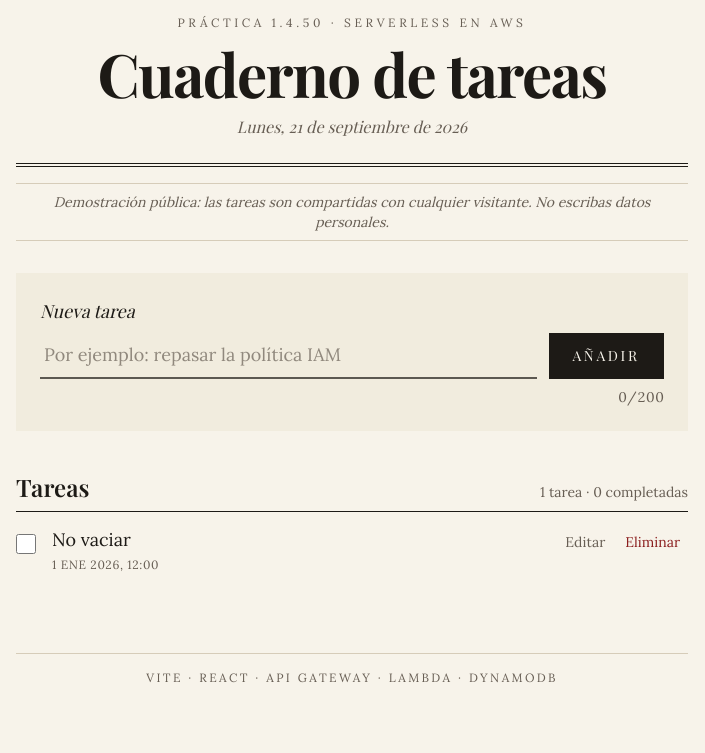
Test: edición › no permite guardar un título vacío
Click the button with aria-label "Editar «No vaciar»". click: (585, 542)
box: [557, 528, 613, 556]
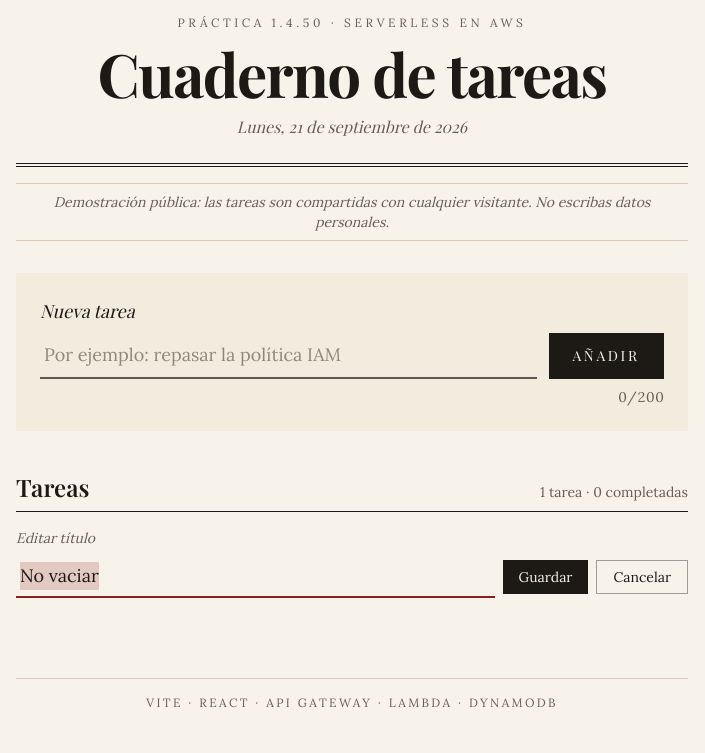
Clear the field labelled "Editar título". click: (255, 577)
box: [16, 556, 495, 598]
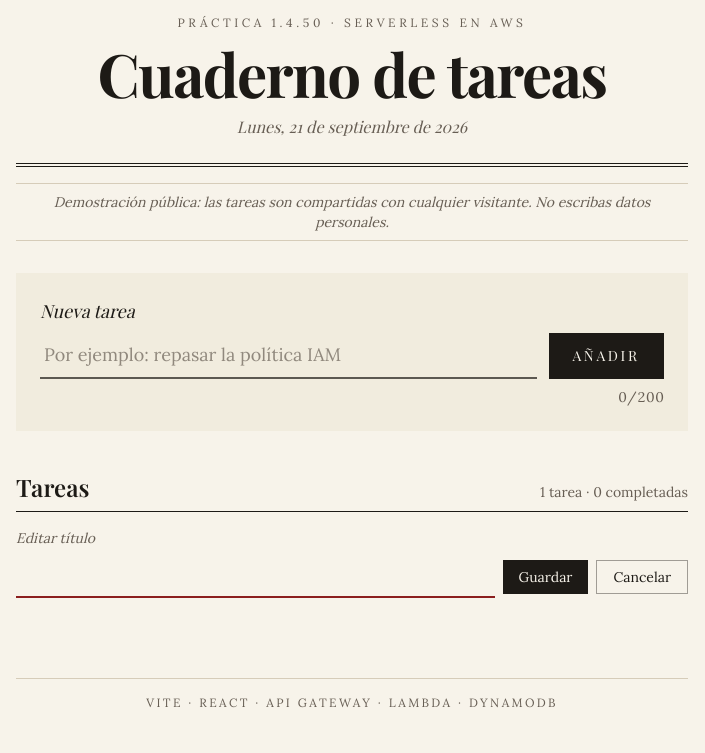
Click the button "Guardar". click: (546, 577)
box: [503, 560, 588, 594]
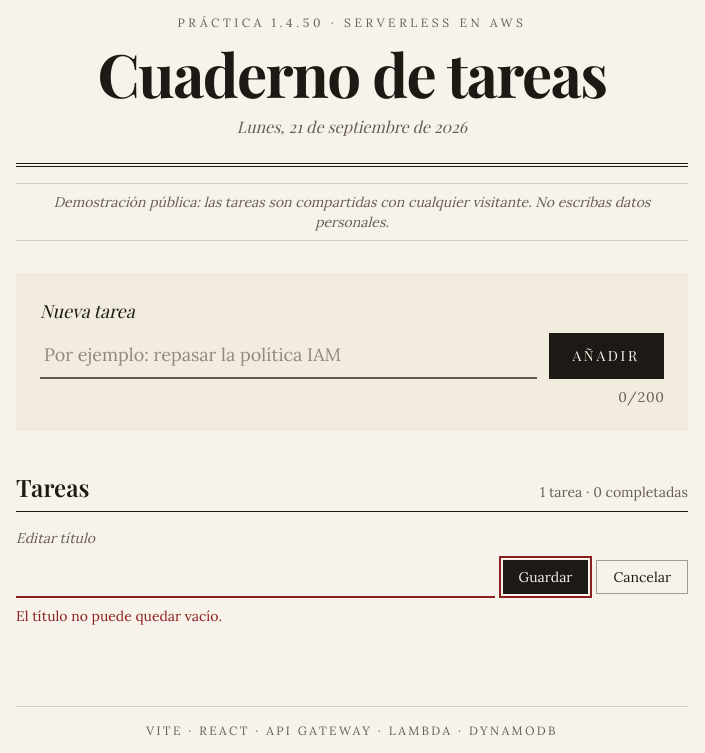
Check: the message shows "no puede quedar vacío", box [16, 607, 222, 625]
